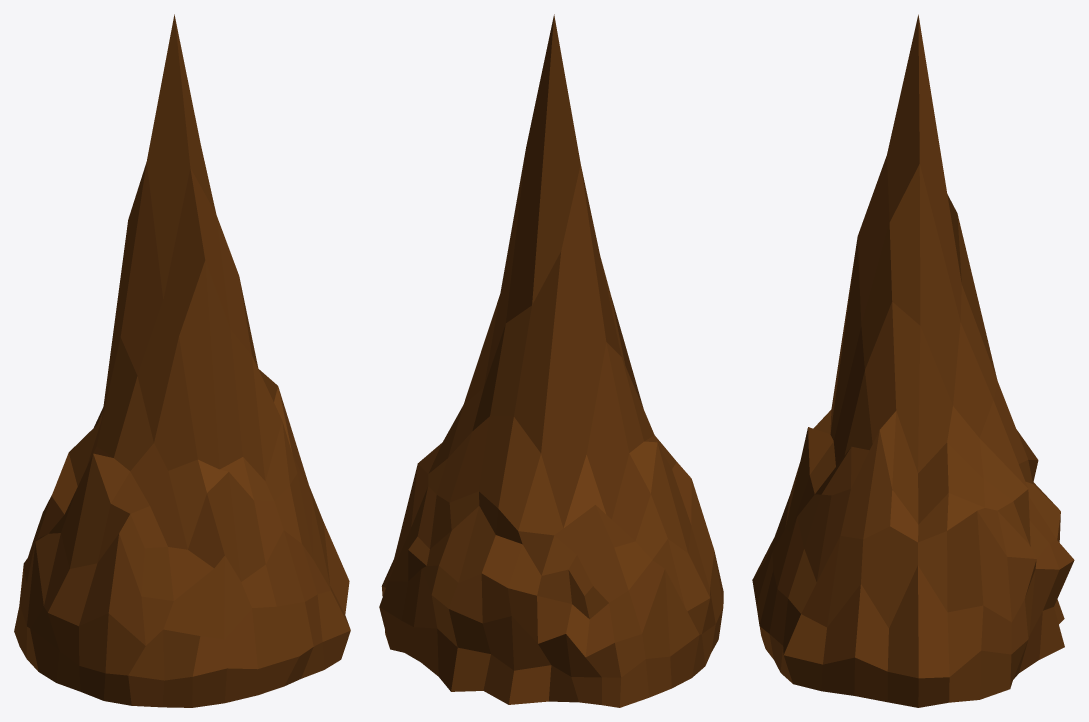
The model's file is stalactite.gltf.
The picture shows the model from 3 angles, left to right: view 1: azimuth 30°, elevation 25°; view 2: azimuth 150°, elevation 25°; view 3: azimuth 270°, elevation 25°; orthographic projection.
Parts seen in each view (by area): view 1: Cube; view 2: Cube; view 3: Cube.
Part boxes in pixels (x1=…): Cube: x1=14, y1=14, x2=350, y2=707; Cube: x1=379, y1=14, x2=723, y2=707; Cube: x1=752, y1=14, x2=1074, y2=707.
Bounding box in the file's own units: 1.93 × 3.76 × 1.77.
